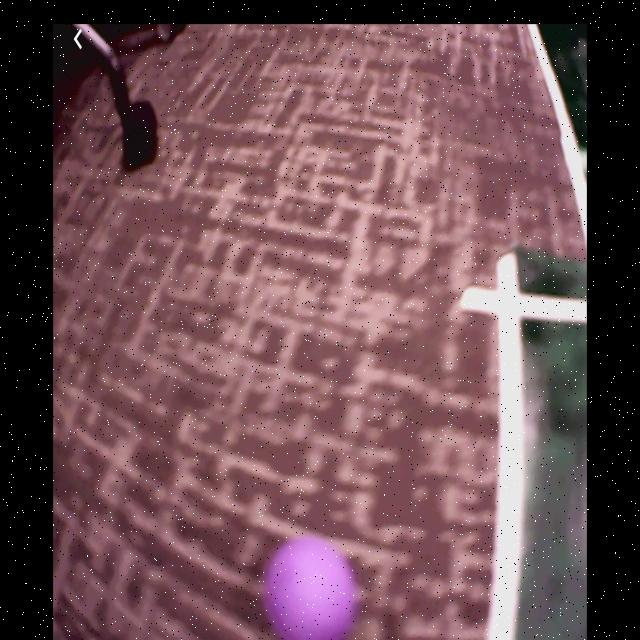ball: (264, 535, 361, 639)
